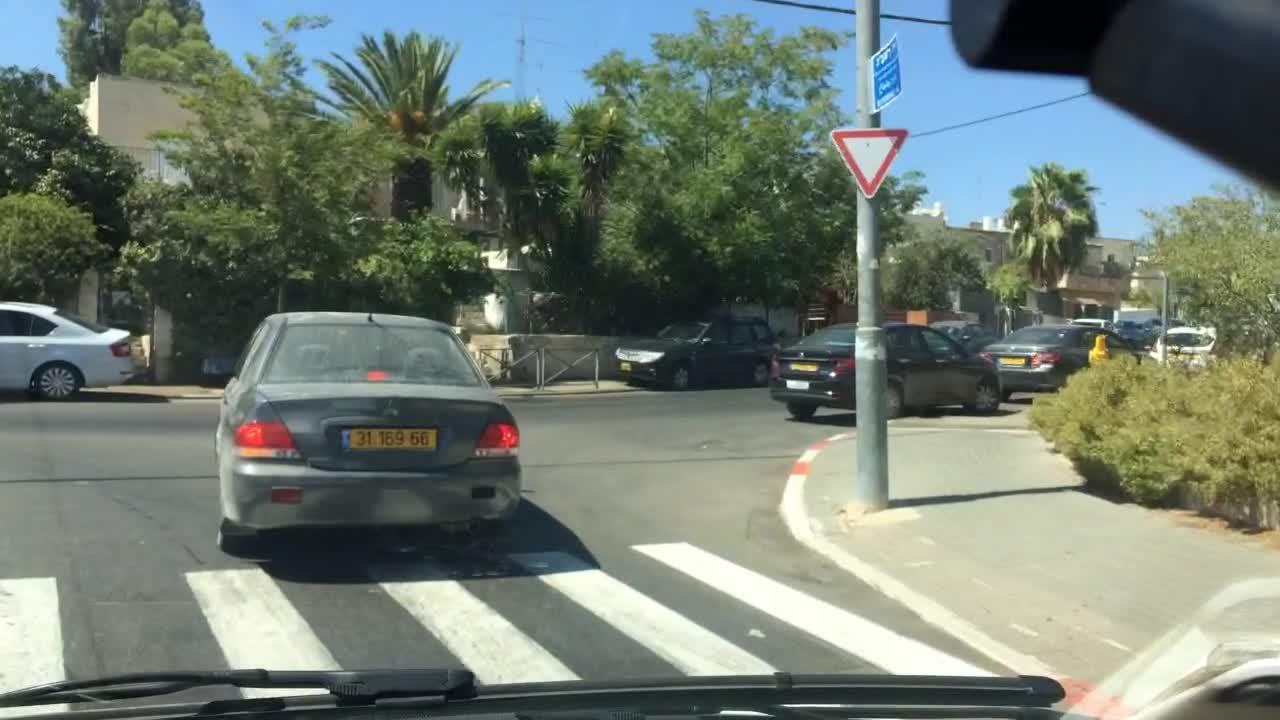Mitsubishi: (380, 398, 402, 419)
